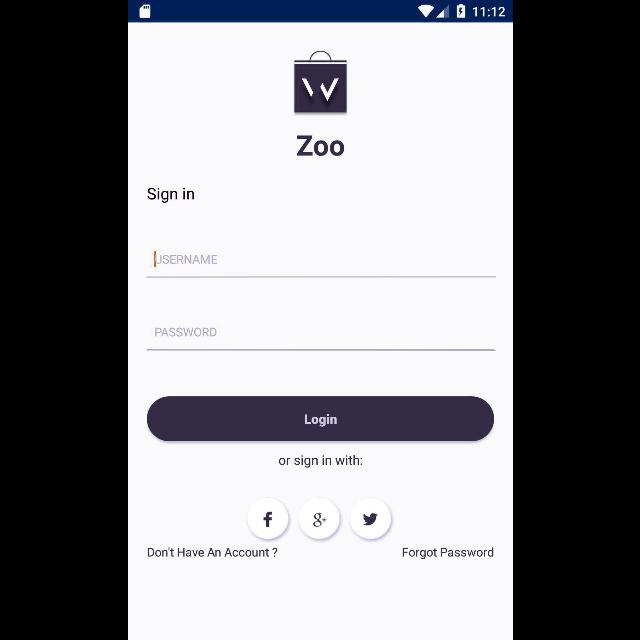icon: (246, 497, 288, 539), (298, 497, 340, 539), (350, 498, 390, 540)
image: (294, 51, 346, 113)
input: (146, 250, 494, 278), (146, 327, 494, 351)
text: (147, 546, 277, 558), (278, 454, 362, 468), (402, 547, 492, 559), (296, 136, 344, 156), (146, 188, 194, 202), (154, 328, 216, 337), (155, 256, 217, 264)
textbutton: (146, 396, 494, 442)
uppertaskbar: (128, 1, 512, 23)
